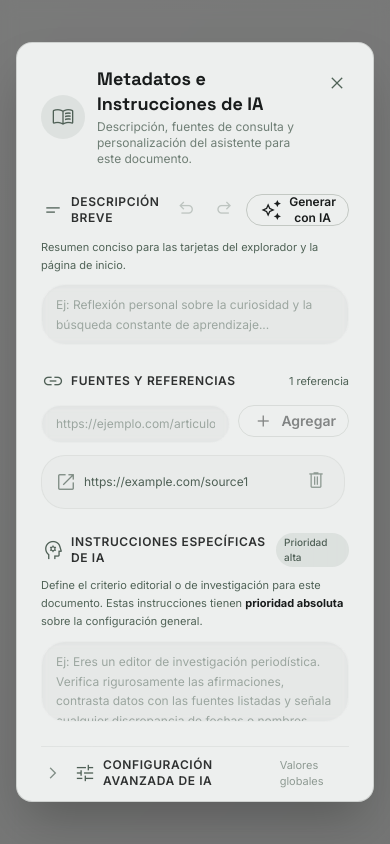
Test case: NoteReferencesModal › allows adding and removing sources
The width and height of the screenshot is (390, 844).
Type "bbc.com/news/123" into the field with placeholder "https://ejemplo.com/articulo-fuente".
click(136, 424); type("bbc.com/news/123")  # box [41, 406, 230, 444]
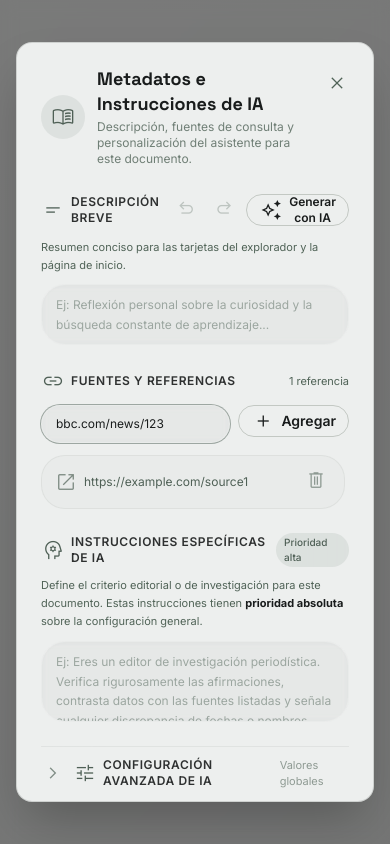
Click the button "Agregar".
click(294, 422)  # box [238, 406, 349, 438]
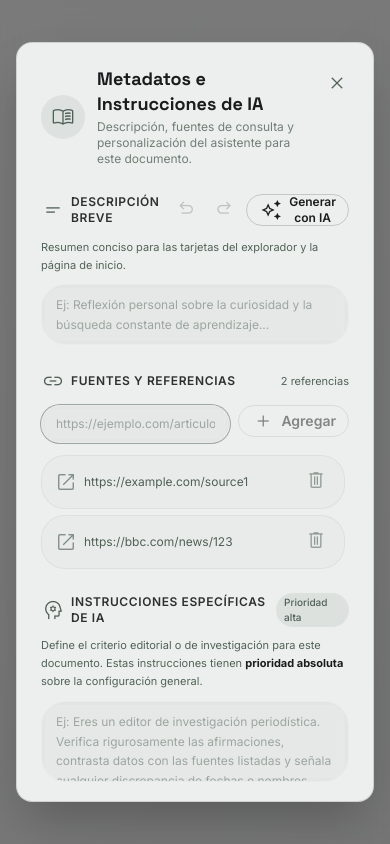
Now the text "https://bbc.com/news/123" is shown, box [84, 534, 233, 550]
Now the number of buttons named "Eliminar fuente" is 2
Click the button named "Eliminar fuente" next to "https://example.com/source1".
click(316, 482)  # box [300, 464, 332, 500]
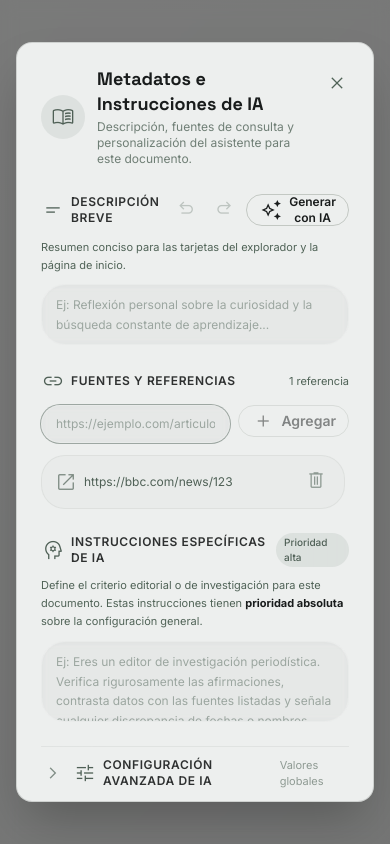
Now the text "https://bbc.com/news/123" is shown, box [84, 474, 233, 490]
Now the text "https://example.com/source1" is gone
